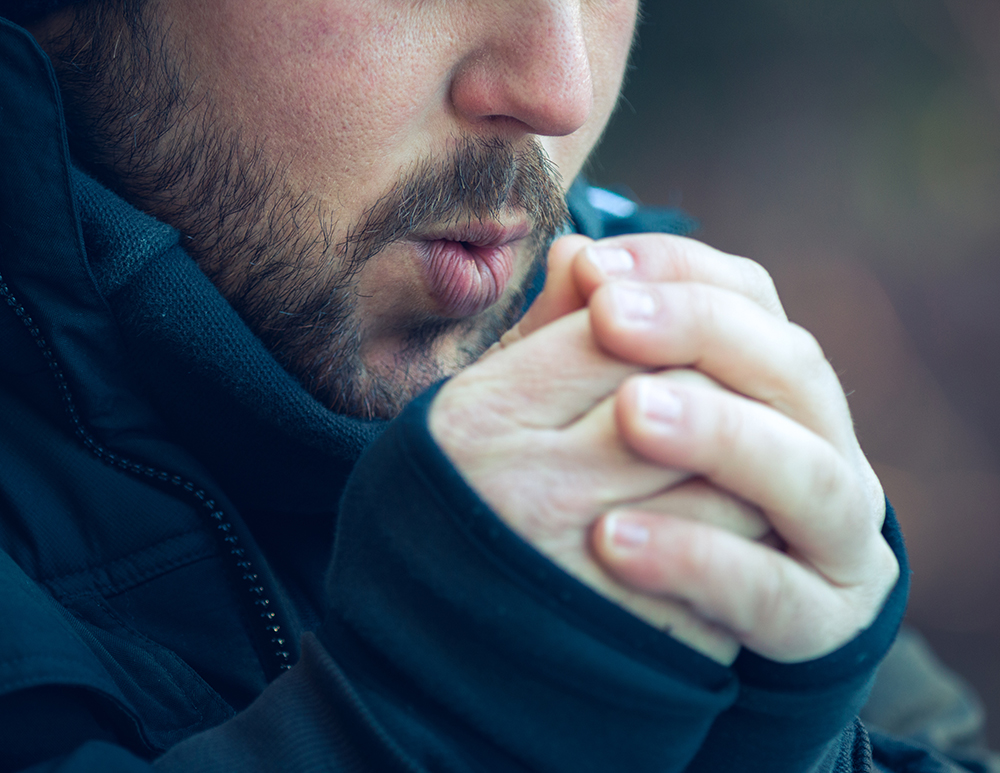finger: (610, 361, 882, 565), (596, 277, 853, 425), (573, 501, 835, 630), (578, 224, 789, 309)
